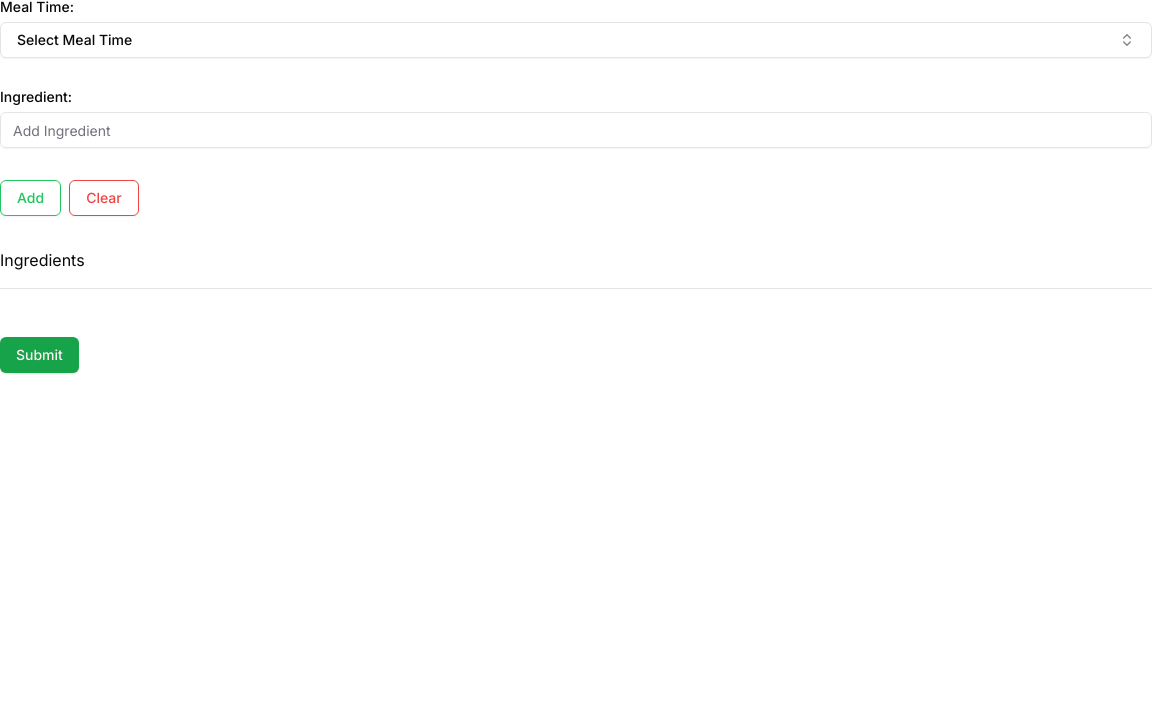
it: CreateMealForm › renders the meal time dropdown and selects breakfast
Click the dropdown "Select Meal Time" at (75, 40), box [0, 22, 1151, 58]
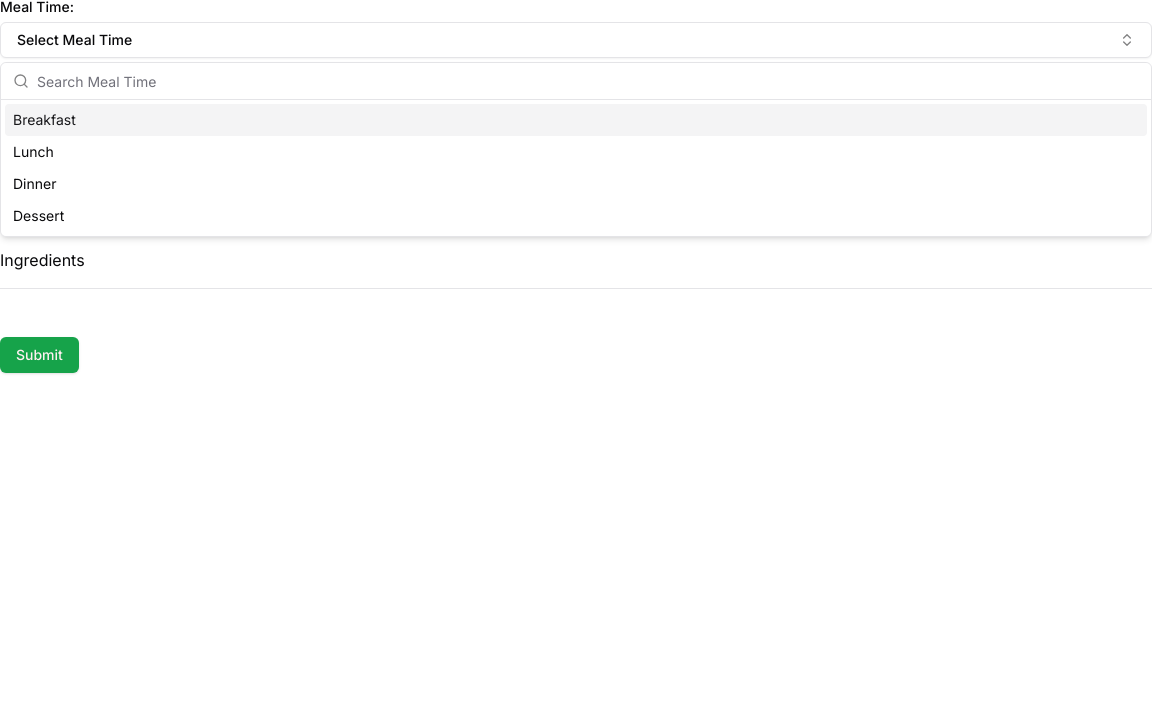
Check: the option "Breakfast" is shown
Click the option "Breakfast" at (44, 120), box [5, 104, 1147, 136]
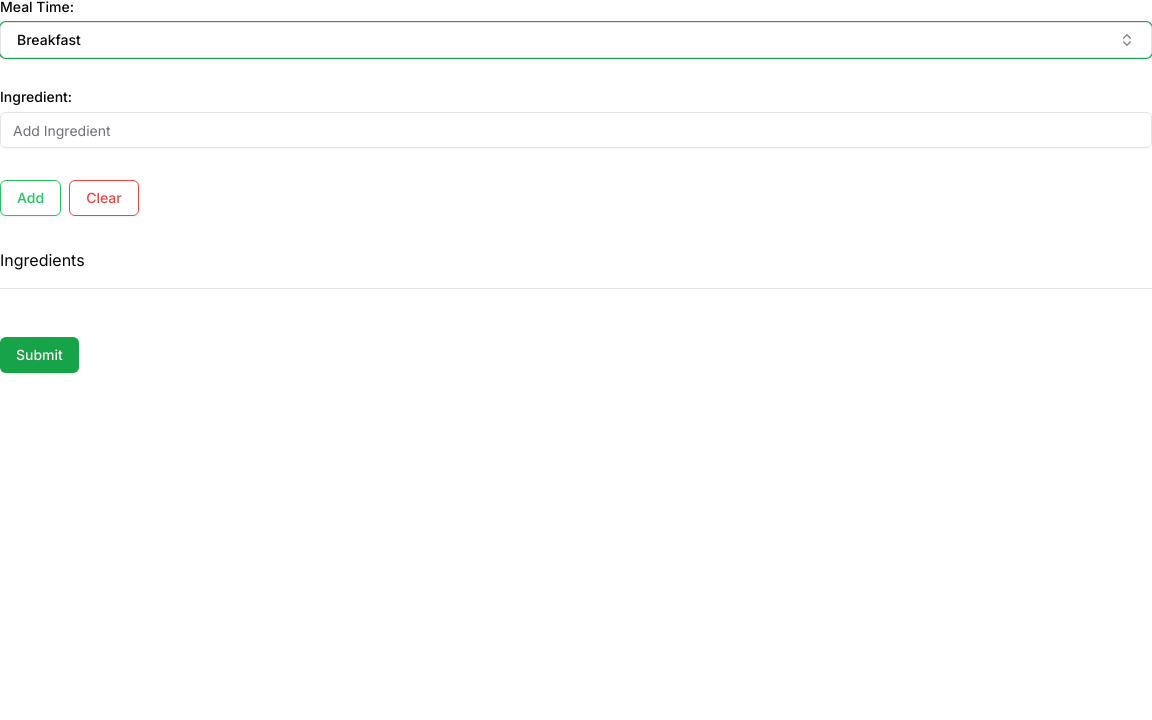
Check: the dropdown "Breakfast" is shown, box [0, 22, 1151, 58]
